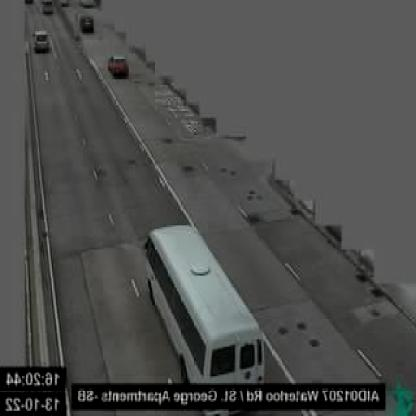Car: (147, 226, 262, 382), (106, 54, 127, 76), (33, 30, 49, 52), (81, 17, 95, 32), (40, 0, 53, 13)
